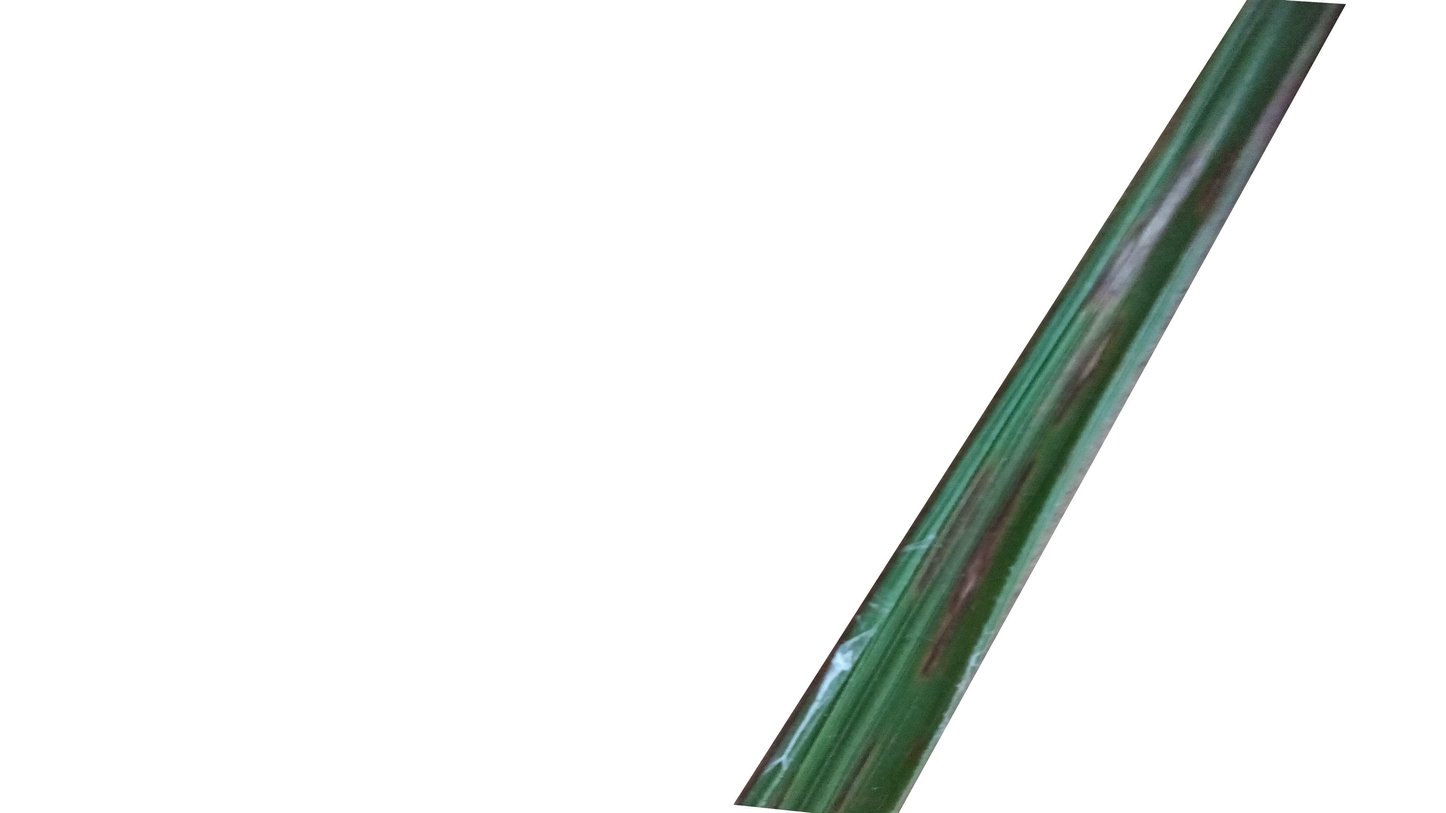Blight: (904, 120, 1253, 686)
